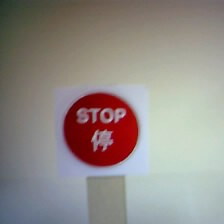stop: (55, 85, 149, 175)
